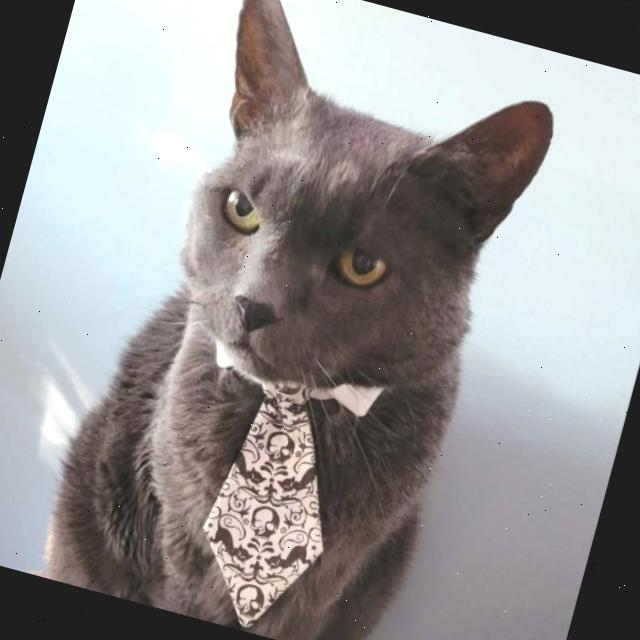russian_blue_cat: (124, 0, 588, 448)
